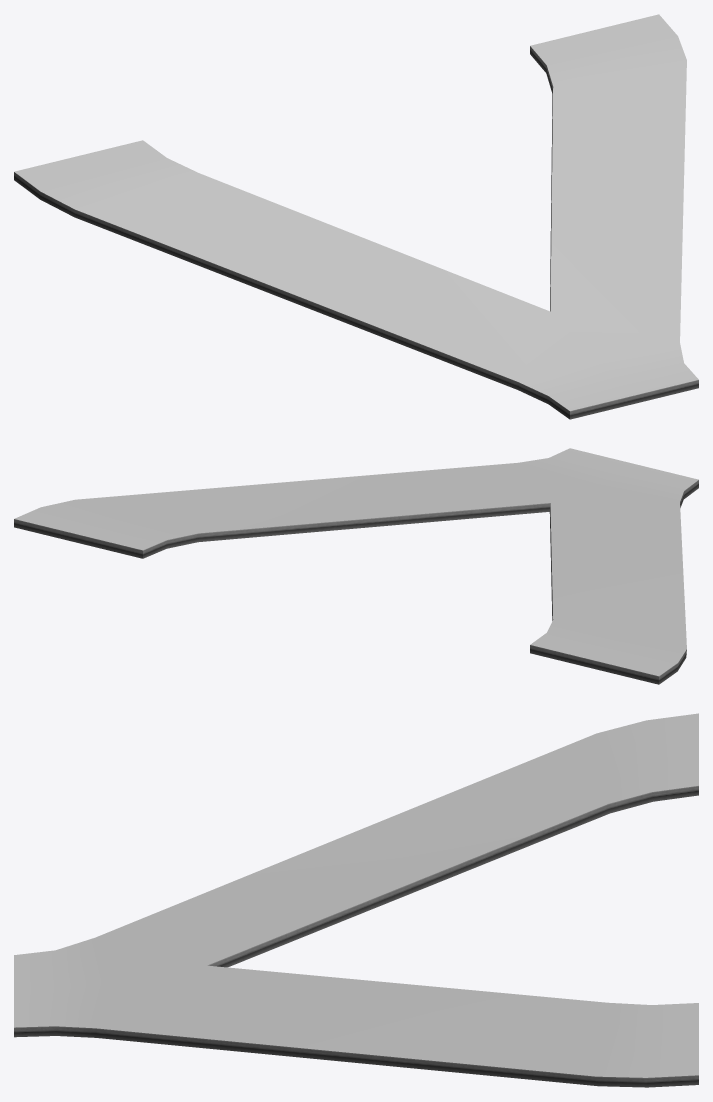
File: ForkDn.fbx
3 renders of one model, top to bottom at view 1: azimuth 30°, elevation 25°; view 2: azimuth 150°, elevation 25°; view 3: azimuth 270°, elevation 25°, orthographic. The views are drawn at different scales.
Parts seen in each view (by area): view 1: Empty_Mesh; view 2: Empty_Mesh; view 3: Empty_Mesh.
Boxes of the visible parts, x1=… form: Empty_Mesh: x1=14, y1=14, x2=698, y2=419; Empty_Mesh: x1=14, y1=448, x2=698, y2=684; Empty_Mesh: x1=14, y1=713, x2=698, y2=1087.
Bounding box in the file's own units: 8000 × 1100 × 6400.
